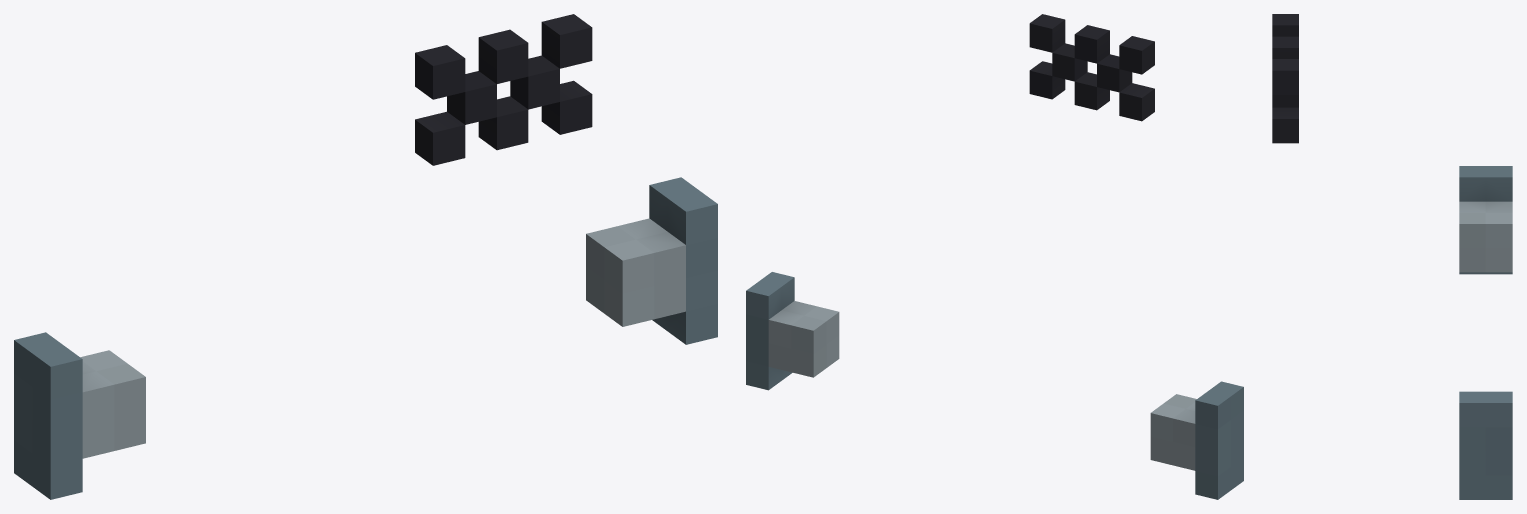
File: face_bolts.glb
The picture shows the model from 3 angles, left to right: view 1: azimuth 30°, elevation 25°; view 2: azimuth 150°, elevation 25°; view 3: azimuth 270°, elevation 25°; orthographic projection. The views are drawn at different scales.
Visible parts, largest first — view 1: Face; view 2: Face; view 3: Face.
Part boxes in pixels (bbox=[...]): Face: bbox=[14, 14, 717, 499]; Face: bbox=[746, 14, 1243, 499]; Face: bbox=[1272, 14, 1512, 499].
Bounding box in the file's own units: 2.31 × 1.54 × 0.9893.
